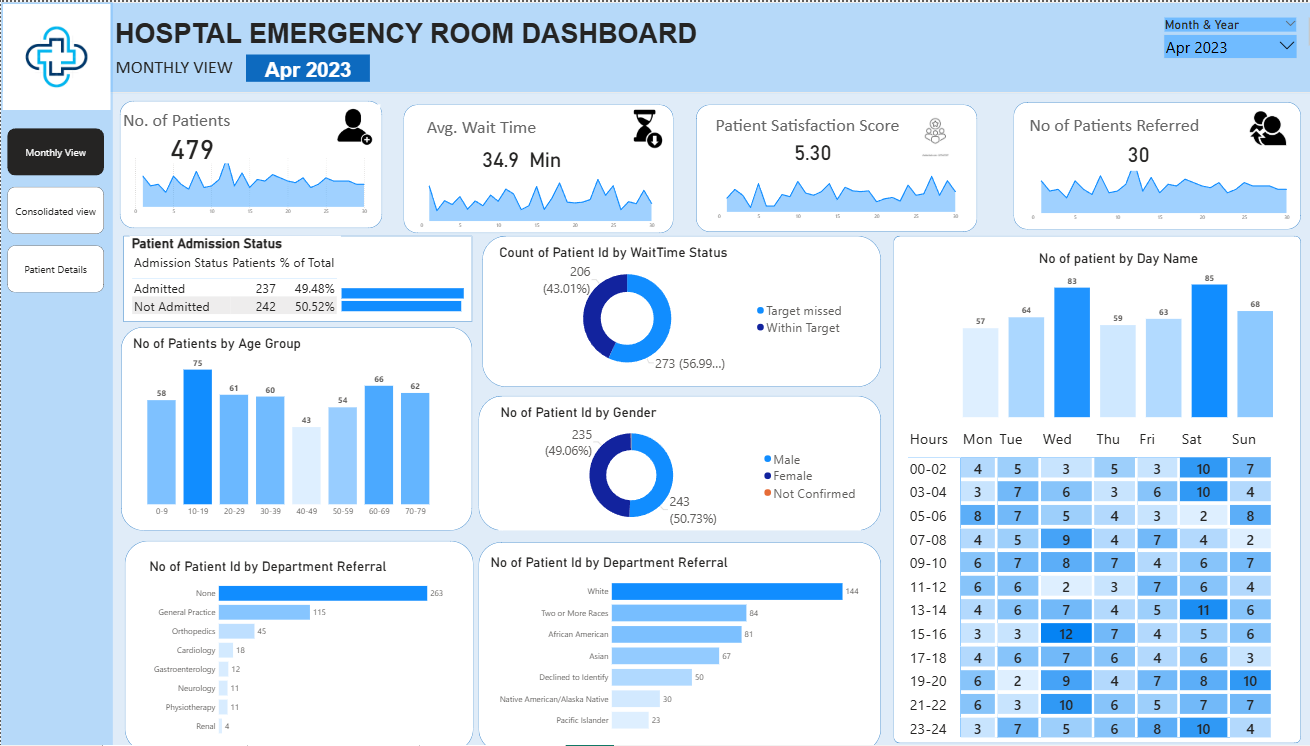

Layout of this report page (visuals, bound fields, positions):
{"tool":"powerbi","page":{"name":"Monthly View","canvas":[3500,2000],"ordinal":0},"visuals":[{"type":"shape","box":[326.7,623.3,930,230],"z":0},{"type":"shape","box":[0,0,4000,243.3],"z":1000},{"type":"shape","box":[0,0,298.3,2000.7],"z":2000},{"type":"textbox","box":[300,36.7,3200,103.3],"z":3000},{"type":"textbox","box":[299.8,138.6,1554.4,103.3],"z":4000},{"type":"card","fields":{"Values":["Data Table.No of patient"]},"box":[354.2,333.1,185.3,157.2],"z":5000},{"type":"slicer","fields":{"Values":["Data Table.Month & Year"]},"box":[3090,36.7,376.7,136.7],"z":6000},{"type":"card","fields":{"Values":["Min(Data Table.Month & Year)"]},"box":[652.1,138.4,330.8,72.7],"z":7000},{"type":"shape","box":[316.7,263.3,700,340],"z":8000},{"type":"areaChart","fields":{"Y":["Data Table.No of patient"],"Category":["Data Table.Date.Variation.Date Hierarchy.Day"]},"box":[343.3,403.3,640,173.3],"z":9000},{"type":"card","fields":{"Values":["Data Table.No of patient"]},"box":[396.7,333.3,226.7,96.7],"z":10000},{"type":"textbox","box":[319,281.5,384.7,103.2],"z":11000},{"type":"shape","box":[2700,266.7,766.7,340],"z":12000},{"type":"shape","box":[1853.3,273.3,750,340],"z":13000},{"type":"shape","box":[1073.3,273.3,720,343.3],"z":14000},{"type":"card","fields":{"Values":["Hospital ER_Data.Avg Wait Time"]},"box":[1256.7,366.7,263.3,96.7],"z":15000},{"type":"textbox","box":[1130,300,383.3,103.3],"z":16000},{"type":"card","fields":{"Values":["Hospital ER_Data.Avg Satisfaction Score"]},"box":[2033.3,346.7,260,96.7],"z":17000},{"type":"textbox","box":[1900,293.3,640,86.7],"z":18000},{"type":"areaChart","fields":{"Category":["Data Table.Date.Variation.Date Hierarchy.Day"],"Y":["Avg(Hospital ER_Data.Patient Waittime)"]},"box":[1106.7,450,643.3,163.3],"z":19000},{"type":"barChart","title":"No of Patient Id by Admission Status","fields":{"Category":["Hospital ER_Data.Admission Status"],"Y":["CountNonNull(Hospital ER_Data.Patient Id)"]},"box":[903.3,733.3,346.7,110],"z":20000},{"type":"areaChart","fields":{"Category":["Data Table.Date.Variation.Date Hierarchy.Day"],"Y":["Sum(Hospital ER_Data.Patient Satisfaction Score)"]},"box":[1900,430,660,160],"z":21000},{"type":"textbox","box":[2736.7,293.3,663.3,103.3],"z":22000},{"type":"areaChart","fields":{"Category":["Data Table.Date.Variation.Date Hierarchy.Day"],"Y":["CountNonNull(Hospital ER_Data.Department Referral)"]},"box":[2736.7,413.3,706.7,180],"z":23000},{"type":"card","fields":{"Values":["Hospital ER_Data.No of patient referred"]},"box":[2903.3,353.3,260,96.7],"z":24000},{"type":"shape","box":[320,866.7,936.7,543.3],"z":25000},{"type":"columnChart","fields":{"Category":["Hospital ER_Data.Age Group"],"Y":["CountNonNull(Hospital ER_Data.Patient Id)"]},"box":[345.2,891.4,841.2,492.6],"z":26000},{"type":"tableEx","title":"Patient Admission Status","fields":{"Values":["Hospital ER_Data.Admission Status","Hospital ER_Data.Patient Id1","Hospital ER_Data.Patient Id"]},"box":[343.3,623.3,563.3,220],"z":27000},{"type":"shape","box":[1273.3,1440,1073.3,560],"z":28000},{"type":"clusteredBarChart","title":"No of Patient Id by Department Referral","fields":{"Y":["CountNonNull(Hospital ER_Data.Patient Id)"],"Category":["Hospital ER_Data.Patient Race"]},"box":[1300,1473.3,993.3,493.3],"z":29000},{"type":"shape","box":[1283.3,623.3,1063.3,403.3],"z":30000},{"type":"donutChart","fields":{"Y":["CountNonNull(Hospital ER_Data.Patient Id)"],"Category":["Hospital ER_Data.WaitTime Status"]},"box":[1323.3,646.7,933.3,353.3],"z":31000},{"type":"shape","box":[1273.3,1050,1073.3,360],"z":32000},{"type":"shape","box":[330,1436.7,930,563.3],"z":33000},{"type":"donutChart","title":"No of Patient Id by  Gender","fields":{"Y":["CountNonNull(Hospital ER_Data.Patient Id)"],"Category":["Hospital ER_Data.Patient Gender"]},"box":[1326.7,1073.3,966.7,336.7],"z":34000},{"type":"shape","box":[2380,623.3,1086.7,1353.3],"z":35000},{"type":"clusteredBarChart","title":"No of Patient Id by Department Referral","fields":{"Category":["Hospital ER_Data.Department Referral"],"Y":["CountNonNull(Hospital ER_Data.Patient Id)"]},"box":[390,1483.3,796.7,493.3],"z":36000},{"type":"pivotTable","fields":{"Rows":["Hospital ER_Data.Waittime Interval"],"Columns":["Data Table.Day Name"],"Values":["Data Table.No of patient"]},"box":[2413.3,1130,1016.7,836.7],"z":37000},{"type":"columnChart","fields":{"Category":["Data Table.Day Name"],"Y":["Data Table.No of patient"]},"box":[2560,663.3,840,450],"z":38000},{"type":"image","box":[870,266.7,146.7,143.3],"z":39000},{"type":"image","box":[1660,280,130,116.7],"z":40000},{"type":"image","box":[2380,280,223.3,136.7],"z":41000},{"type":"image","box":[3313.3,286.7,130,100],"z":42000},{"type":"image","box":[0,0,296.7,293.3],"z":42001},{"type":"pageNavigator","box":[18,338,258,438],"z":42002}]}

Visuals, with their boxes on the page's 3500x2000 design canvas (x1, y1, x2, y2). These are canvas units, not pixel positions in the 1310x746 screenshot, which may show the page scaled, cropped or inside an application window:
shape: select_region(327, 623, 1257, 853)
shape: select_region(0, 0, 4000, 243)
shape: select_region(0, 0, 298, 2001)
textbox: select_region(300, 37, 3500, 140)
textbox: select_region(300, 139, 1854, 242)
card - Data Table.No of patient: select_region(354, 333, 540, 490)
slicer - Data Table.Month & Year: select_region(3090, 37, 3467, 173)
card - Min(Data Table.Month & Year): select_region(652, 138, 983, 211)
shape: select_region(317, 263, 1017, 603)
areaChart - Data Table.No of patient x Data Table.Date.Variation.Date Hierarchy.Day: select_region(343, 403, 983, 577)
card - Data Table.No of patient: select_region(397, 333, 623, 430)
textbox: select_region(319, 282, 704, 385)
shape: select_region(2700, 267, 3467, 607)
shape: select_region(1853, 273, 2603, 613)
shape: select_region(1073, 273, 1793, 617)
card - Hospital ER_Data.Avg Wait Time: select_region(1257, 367, 1520, 463)
textbox: select_region(1130, 300, 1513, 403)
card - Hospital ER_Data.Avg Satisfaction Score: select_region(2033, 347, 2293, 443)
textbox: select_region(1900, 293, 2540, 380)
areaChart - Data Table.Date.Variation.Date Hierarchy.Day x Avg(Hospital ER_Data.Patient Waittime): select_region(1107, 450, 1750, 613)
"No of Patient Id by Admission Status" barChart: select_region(903, 733, 1250, 843)
areaChart - Data Table.Date.Variation.Date Hierarchy.Day x Sum(Hospital ER_Data.Patient Satisfaction Score): select_region(1900, 430, 2560, 590)
textbox: select_region(2737, 293, 3400, 397)
areaChart - Data Table.Date.Variation.Date Hierarchy.Day x CountNonNull(Hospital ER_Data.Department Referral): select_region(2737, 413, 3443, 593)
card - Hospital ER_Data.No of patient referred: select_region(2903, 353, 3163, 450)
shape: select_region(320, 867, 1257, 1410)
columnChart - Hospital ER_Data.Age Group x CountNonNull(Hospital ER_Data.Patient Id): select_region(345, 891, 1186, 1384)
"Patient Admission Status" tableEx: select_region(343, 623, 907, 843)
shape: select_region(1273, 1440, 2347, 2000)
"No of Patient Id by Department Referral" clusteredBarChart: select_region(1300, 1473, 2293, 1967)
shape: select_region(1283, 623, 2347, 1027)
donutChart - CountNonNull(Hospital ER_Data.Patient Id) x Hospital ER_Data.WaitTime Status: select_region(1323, 647, 2257, 1000)
shape: select_region(1273, 1050, 2347, 1410)
shape: select_region(330, 1437, 1260, 2000)
"No of Patient Id by  Gender" donutChart: select_region(1327, 1073, 2293, 1410)
shape: select_region(2380, 623, 3467, 1977)
"No of Patient Id by Department Referral" clusteredBarChart: select_region(390, 1483, 1187, 1977)
pivotTable - Hospital ER_Data.Waittime Interval x Data Table.Day Name: select_region(2413, 1130, 3430, 1967)
columnChart - Data Table.Day Name x Data Table.No of patient: select_region(2560, 663, 3400, 1113)
image: select_region(870, 267, 1017, 410)
image: select_region(1660, 280, 1790, 397)
image: select_region(2380, 280, 2603, 417)
image: select_region(3313, 287, 3443, 387)
image: select_region(0, 0, 297, 293)
pageNavigator: select_region(18, 338, 276, 776)
